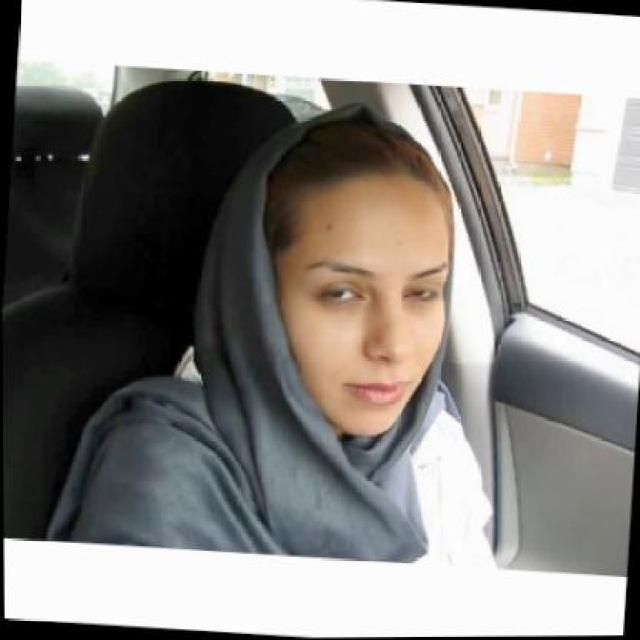attentif: (234, 97, 461, 443)
